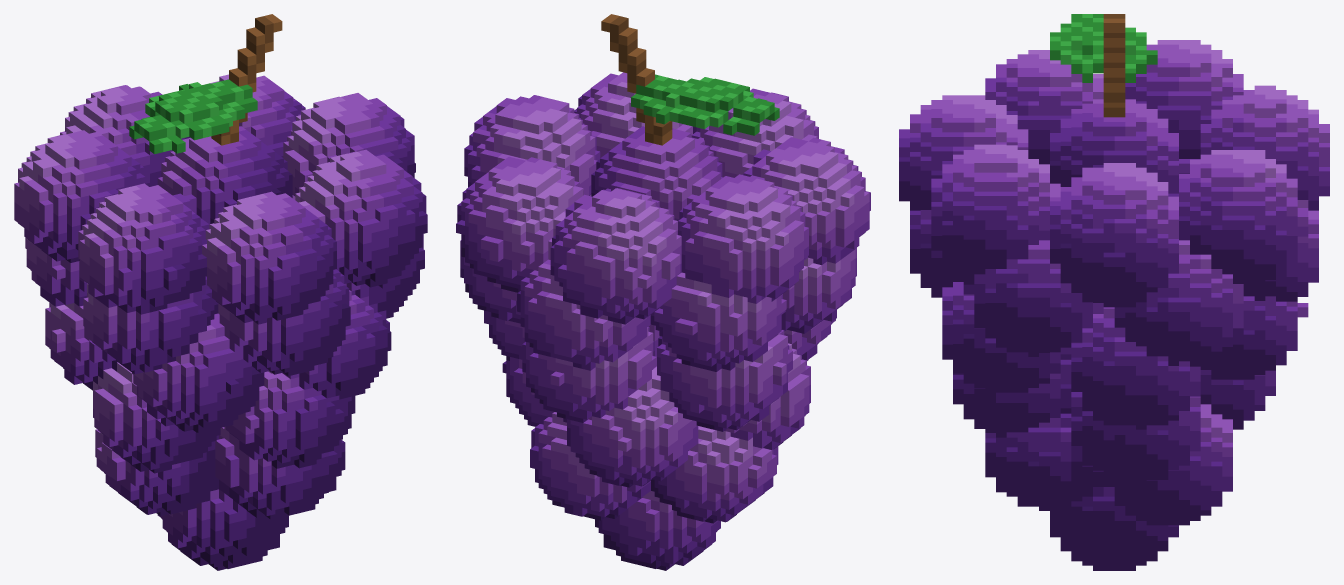
The model's file is grape.obj.
3 views of the same model, side by side, from view 1: azimuth 30°, elevation 25°; view 2: azimuth 150°, elevation 25°; view 3: azimuth 270°, elevation 25° (orthographic). The views are drawn at different scales.
Bounding box in the file's own units: 4 × 5.8 × 4.
Materials: 1 (1 with a texture image).
